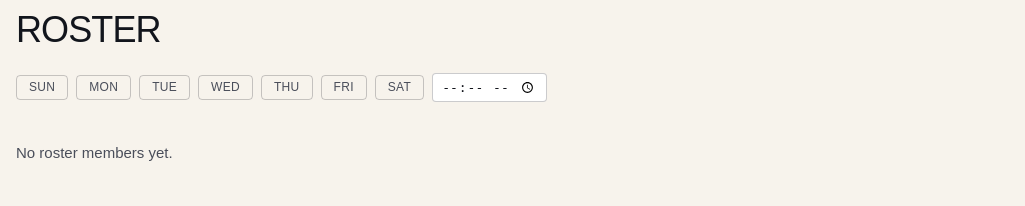
Test: TrainerRosterPage › should delegate to the availability filter when a day and time are selected
Check: the text "No roster members yet." is shown, box left=16, top=144, right=173, bottom=161
Step 1. Click the button "Wed" → click(226, 88), box left=198, top=75, right=253, bottom=100
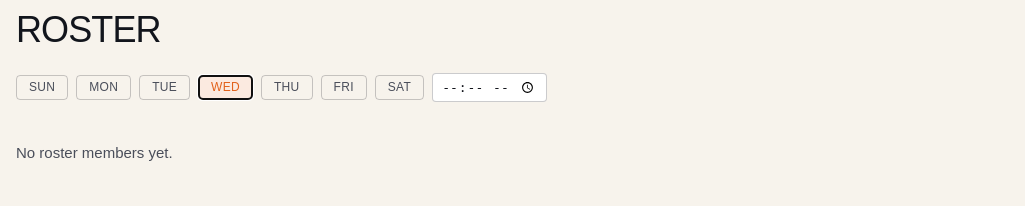
Step 2. Type "18:00" into the time field named "filter by time" → (489, 88), box left=432, top=73, right=547, bottom=102
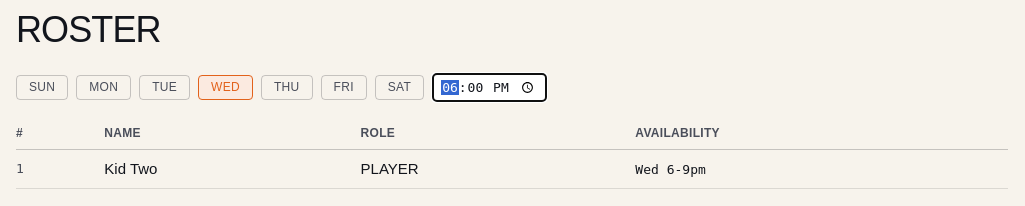
Check: the text "Kid Two" is shown, box left=104, top=150, right=361, bottom=189
